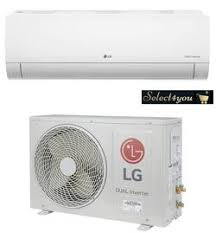ac: (2, 6, 211, 85)
